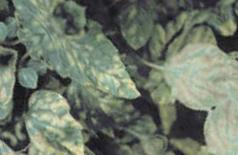Tomato mold leaf: (26, 5, 149, 136), (156, 21, 238, 121), (11, 83, 93, 155)
